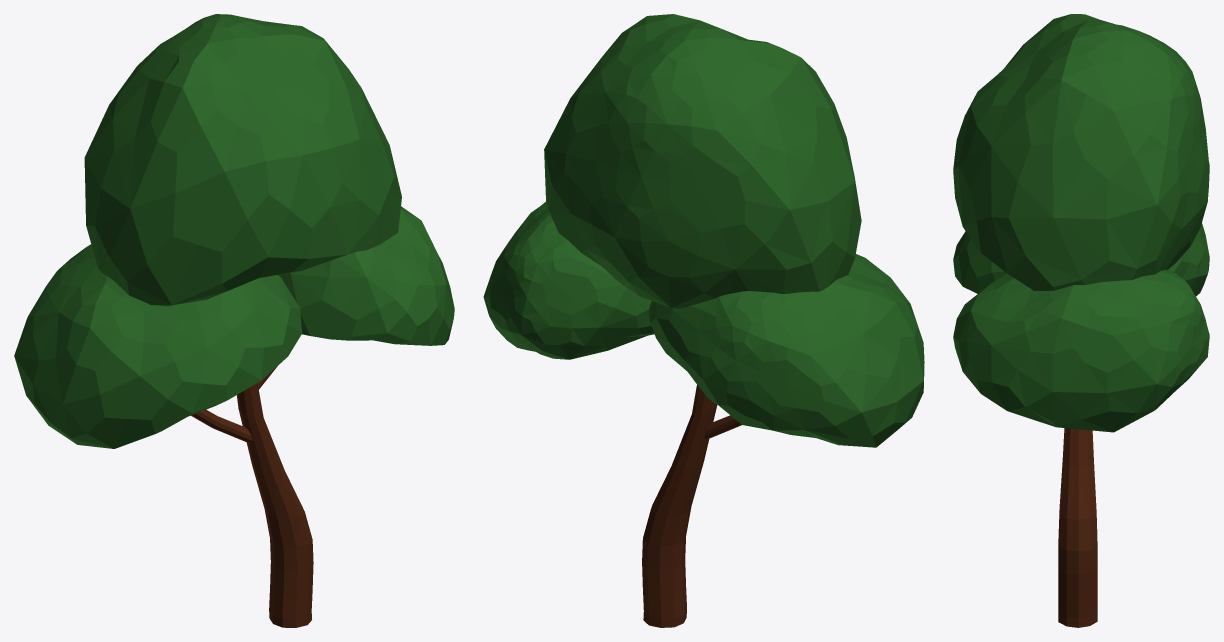
Rendered from Tree2.obj.
3 views of the same model, side by side, from view 1: azimuth 30°, elevation 25°; view 2: azimuth 150°, elevation 25°; view 3: azimuth 270°, elevation 25° (orthographic). The views are drawn at different scales.
Visible parts, largest first — view 1: Tree2.007_Green.001, Tree2.007_Brown.002; view 2: Tree2.007_Green.001, Tree2.007_Brown.002; view 3: Tree2.007_Green.001, Tree2.007_Brown.002.
Part boxes in pixels (x1,y1,x2,y2): Tree2.007_Green.001: (14, 14, 454, 448); Tree2.007_Brown.002: (191, 366, 313, 627); Tree2.007_Green.001: (483, 14, 924, 447); Tree2.007_Brown.002: (642, 385, 741, 627); Tree2.007_Green.001: (953, 14, 1209, 432); Tree2.007_Brown.002: (1058, 428, 1097, 627).
Bounding box in the file's own units: 3.73 × 5.57 × 2.26.
